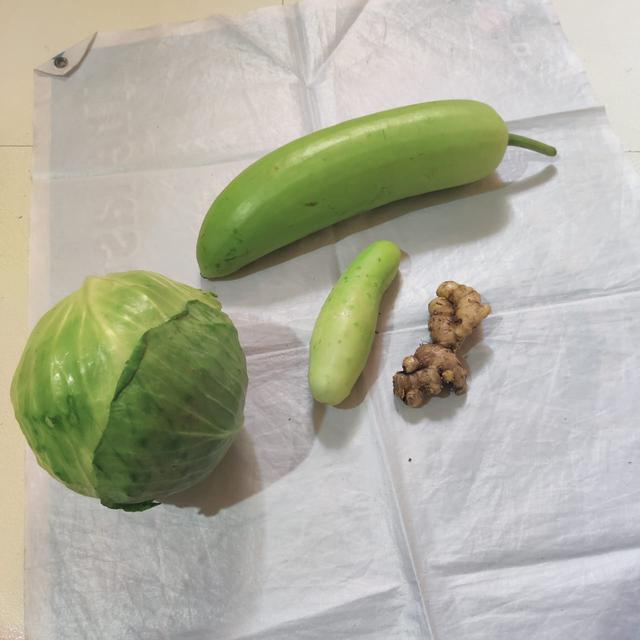Organik: (15, 270, 239, 510), (190, 108, 544, 208), (307, 242, 392, 406), (394, 278, 487, 411)
